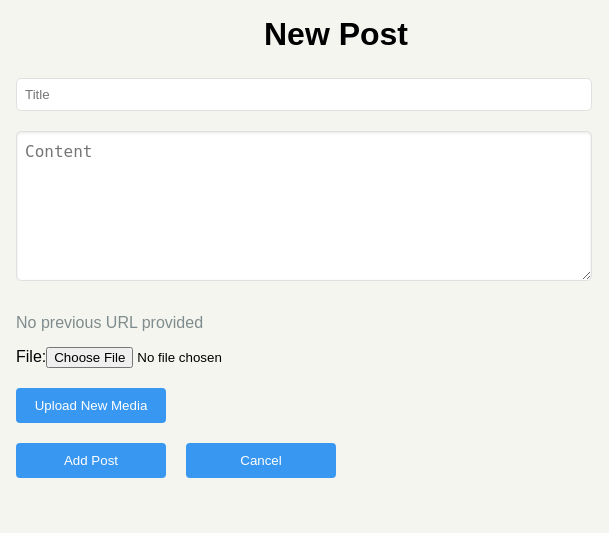
Test: NewPost Component › displays an error message when the title is empty
This screenshot has width=609, height=533.
Click the button "Add Post".
click(91, 460)  # box [16, 443, 166, 478]
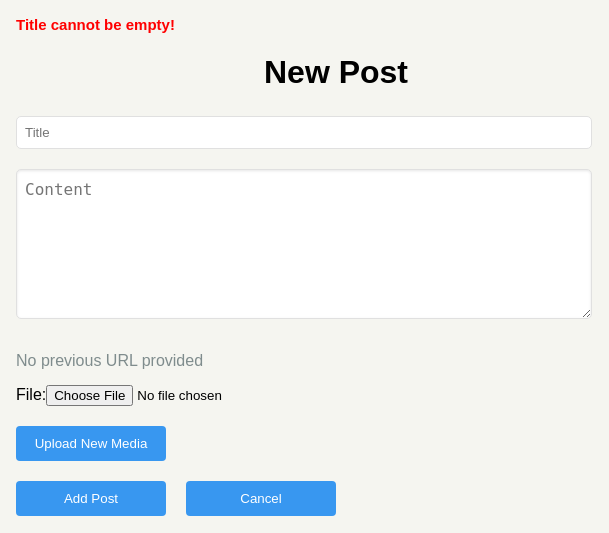
Expected: the text "Title cannot be empty!" is shown, [16, 16, 175, 33]
